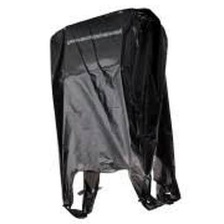plastic_bag: (44, 5, 195, 222)
